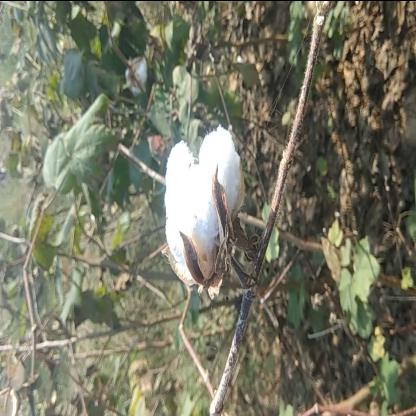cotton_ready: (152, 126, 286, 294)
